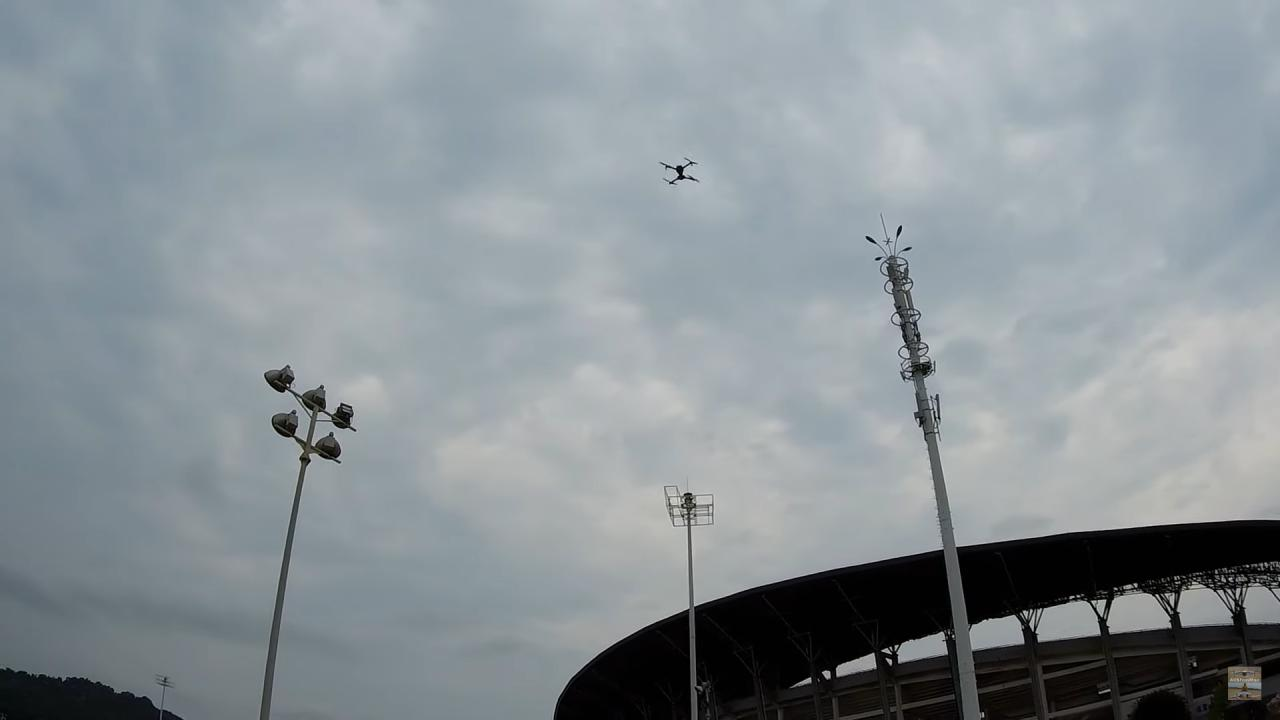Drone: (651, 148, 709, 196)
